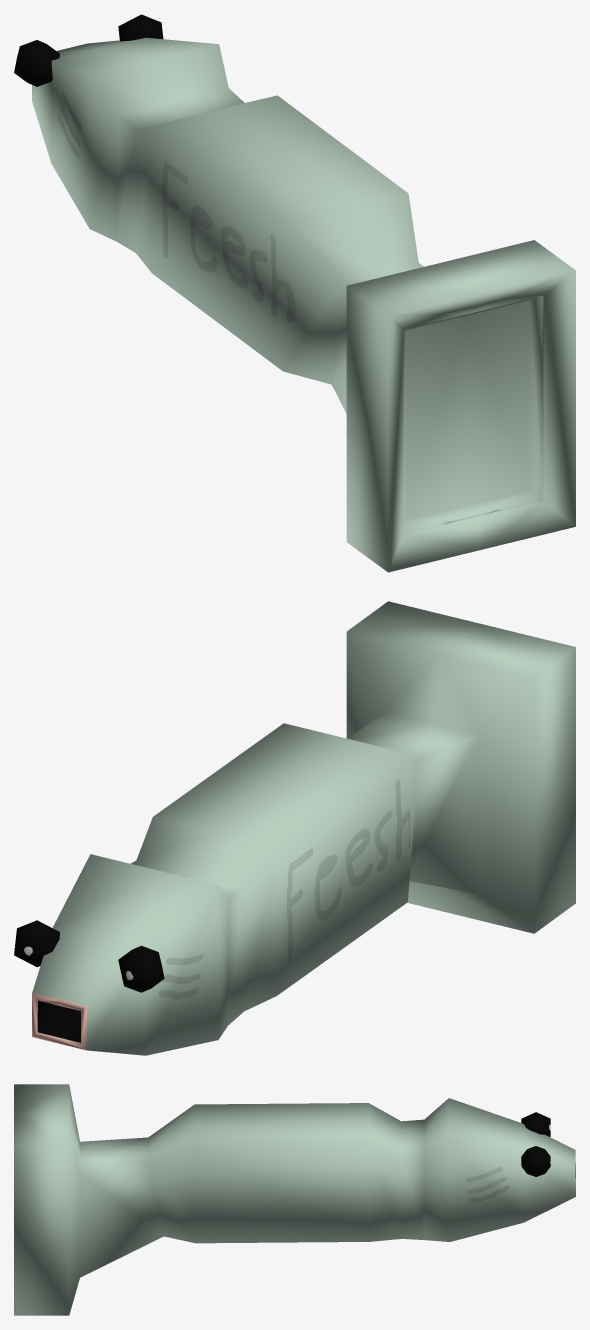
File: feesh gun.glb
3 renders of one model, top to bottom at view 1: azimuth 30°, elevation 25°; view 2: azimuth 150°, elevation 25°; view 3: azimuth 270°, elevation 25°, orthographic. The views are drawn at different scales.
Parts seen in each view (by area): view 1: Icosphere.001; view 2: Icosphere.001; view 3: Icosphere.001.
Part boxes in pixels (bbox=[...]): Icosphere.001: bbox=[14, 14, 575, 572]; Icosphere.001: bbox=[14, 601, 575, 1055]; Icosphere.001: bbox=[14, 1084, 575, 1315].
Bounding box in the file's own units: 0.6663 × 0.869 × 2.6.
Materials: 1 (1 with a texture image).
